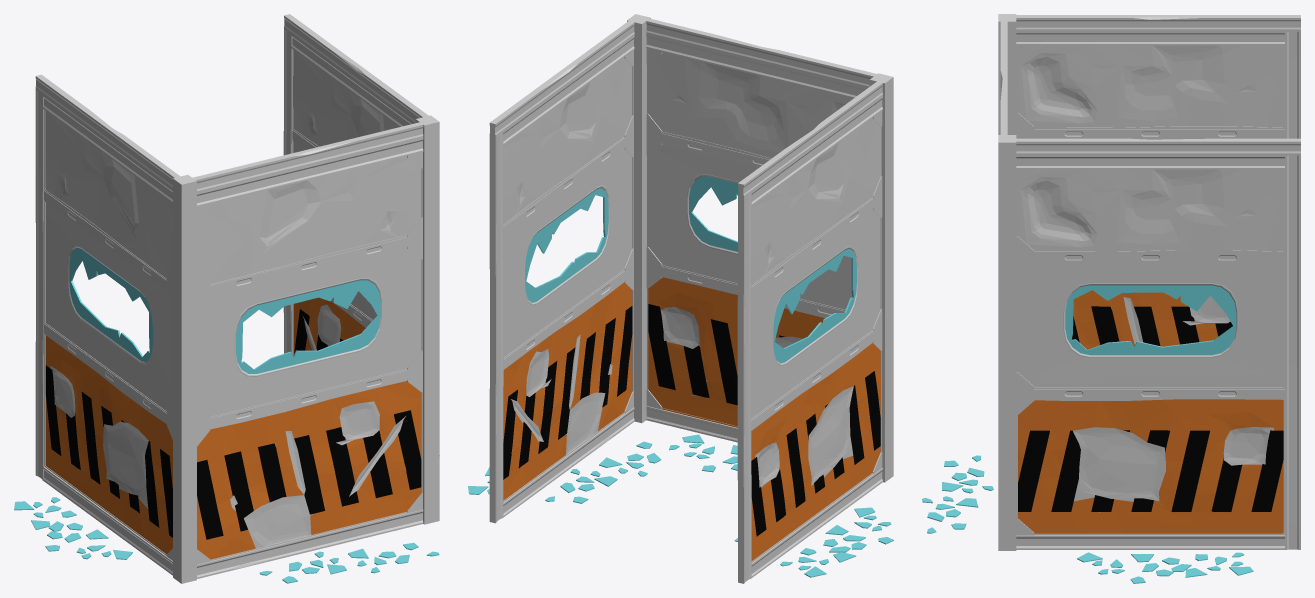
File: SM_Wall_Angle_Broken_02.glb
3 renders of one model, left to right at view 1: azimuth 30°, elevation 25°; view 2: azimuth 150°, elevation 25°; view 3: azimuth 270°, elevation 25°, orthographic. The views are drawn at different scales.
Visible parts, largest first — view 1: SM_Wall_Angle_Broken_02; view 2: SM_Wall_Angle_Broken_02; view 3: SM_Wall_Angle_Broken_02.
Boxes of the visible parts, <box> form: SM_Wall_Angle_Broken_02: <box>14,14,439,583</box>; SM_Wall_Angle_Broken_02: <box>468,14,893,583</box>; SM_Wall_Angle_Broken_02: <box>922,14,1300,583</box>.
Bounding box in the file's own units: 3.07 × 3 × 2.52.
